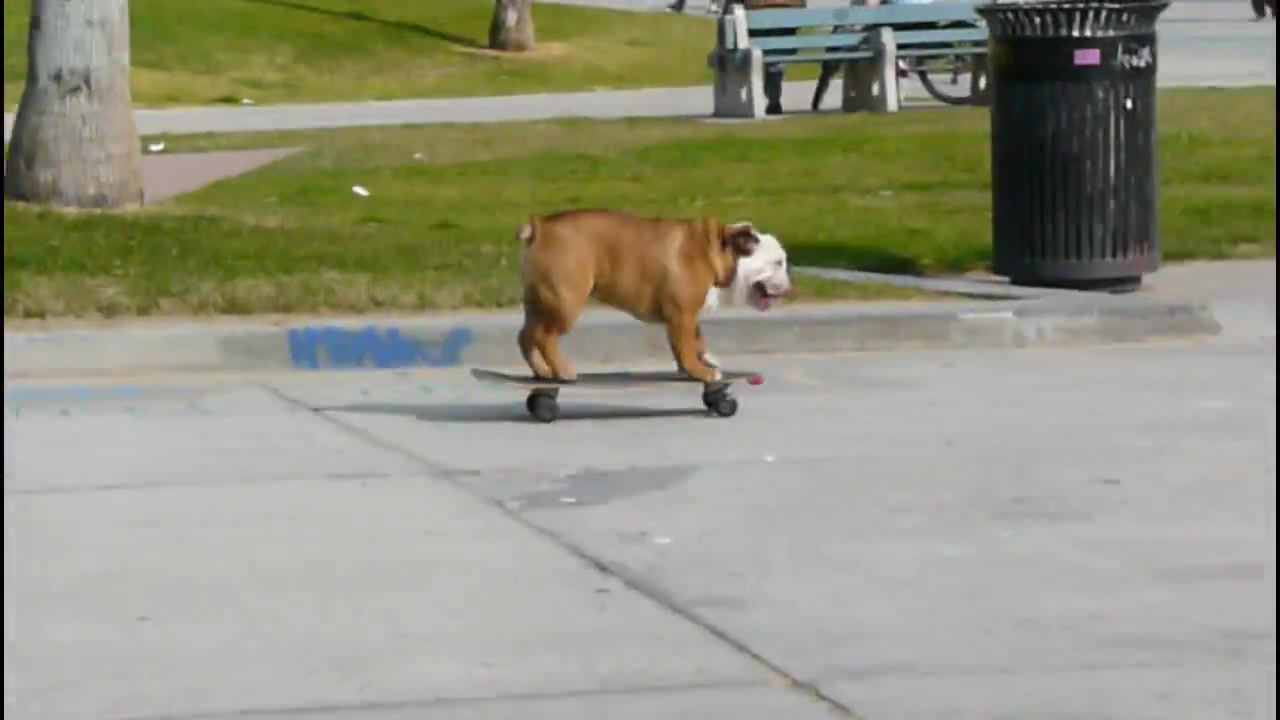dog: (512, 202, 794, 388)
